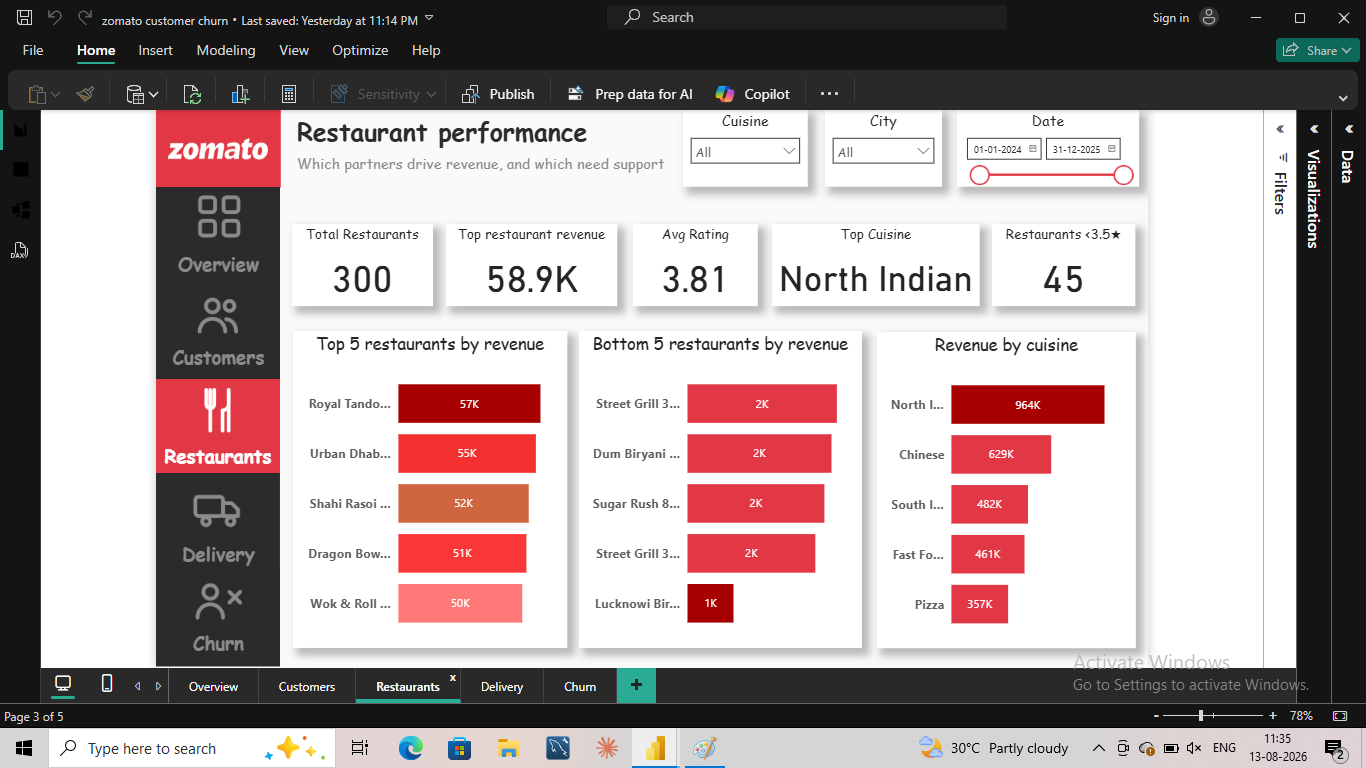

This screenshot's page, from the dashboard's own definition file:
{"tool":"powerbi","page":{"name":"Restaurants","canvas":[1280,720],"ordinal":2},"visuals":[{"type":"slicer","title":"Cuisine ","fields":{"Values":["restaurants.cuisine"]},"box":[680.3,0,161.3,99.1],"z":0},{"type":"slicer","title":"City","fields":{"Values":["cities.city_name"]},"box":[863.4,0,151.2,99.1],"z":1000},{"type":"slicer","title":"Date","fields":{"Values":["orders.order_datetime"]},"box":[1033.1,0,235.2,99.1],"z":2000},{"type":"textbox","box":[176.4,0,399.8,63.8],"z":3000},{"type":"shape","box":[0,99.8,160.5,125.8],"z":3000,"group":"g4"},{"type":"textbox","box":[176.4,50.4,503.9,63.8],"z":4000},{"type":"shape","box":[0,224.1,160.5,124.3],"z":4000,"group":"g2"},{"type":"card","title":"Total Restaurants","fields":{"Values":["Count(restaurants.restaurant_id)"]},"box":[175.2,146.8,181.5,105.7],"z":5000},{"type":"shape","box":[0,347,160.5,124.3],"z":5000,"group":"g5"},{"type":"barChart","title":"Top 5 restaurants by revenue","fields":{"Category":["restaurants.restaurant_name"],"Y":["restaurants.Restaurant Revenue"]},"box":[176.8,285.7,353.5,408.8],"z":6000},{"type":"shape","box":[0,467.8,159.9,126.1],"z":6000,"group":"g6"},{"type":"barChart","title":"Bottom 5 restaurants by revenue","fields":{"Category":["restaurants.restaurant_name"],"Y":["restaurants.Restaurant Revenue"]},"box":[546.1,285.7,364.6,408.8],"z":7000},{"type":"shape","box":[0,592.2,160.5,125.8],"z":7000,"group":"g3"},{"type":"shape","box":[0,0,161,100],"z":8000,"group":"g1"},{"type":"barChart","title":"Revenue by cuisine","fields":{"Category":["restaurants.cuisine"],"Y":["restaurants.Restaurant Revenue"]},"box":[930.5,286.4,333.9,408.5],"z":8000},{"type":"card","title":"Top restaurant revenue","fields":{"Values":["restaurants.Top Restaurant Revenue"]},"box":[374.1,146.8,221,105.7],"z":9000},{"type":"image","box":[0,8.7,160.5,82.4],"z":10000,"group":"g1"},{"type":"card","title":"Avg Rating","fields":{"Values":["Avg(restaurants.average_rating)"]},"box":[615.5,146.8,161,105.7],"z":10000},{"type":"card","title":"Top Cuisine","fields":{"Values":["Min(restaurants.cuisine)"]},"box":[795.5,146.8,268.3,105.7],"z":11000},{"type":"textbox","box":[0,176.3,161,47.5],"z":11000,"group":"g4"},{"type":"textbox","box":[0,296.6,161,52.5],"z":12000,"group":"g2"},{"type":"textbox","box":[0,424.2,159.5,52.7],"z":13000,"group":"g5"},{"type":"card","title":"Restaurants <3.5★","fields":{"Values":["restaurants.Restaurants Below 3.5"]},"box":[1078.9,147.3,185.1,105.5],"z":14000},{"type":"textbox","box":[0,550,160.9,43.9],"z":14000,"group":"g6"},{"type":"group","id":"g1","title":"Group 1","box":[0,0,161,100],"z":15000},{"type":"textbox","box":[0,665.8,161,52.5],"z":15000,"group":"g3"},{"type":"group","id":"g2","title":"Group 3","box":[0,224.1,161,125.1],"z":16000},{"type":"image","box":[18.6,225.4,125.4,76.3],"z":16000,"group":"g2"},{"type":"group","id":"g3","title":"Group 6","box":[0,592.2,161,126.1],"z":17000},{"type":"group","id":"g4","title":"Group 2","box":[0,99.5,161,126.1],"z":18000},{"type":"image","box":[18.6,474.2,125,76.5],"z":18000,"group":"g6"},{"type":"group","id":"g5","title":"Group 4","box":[0,347,160.5,129.9],"z":19000},{"type":"image","box":[18.6,594.6,125.4,76.3],"z":19000,"group":"g3"},{"type":"group","id":"g6","title":"Group 5","box":[0,467.8,160.9,126.1],"z":20000},{"type":"image","box":[11.7,99.5,140.4,76.1],"z":20001,"group":"g4"},{"type":"image","box":[17.6,351.1,124.3,73.1],"z":20002,"group":"g5"},{"type":"actionButton","box":[0,222.4,160.9,124.3],"z":21000},{"type":"actionButton","box":[0,471.8,161.2,123.4],"z":22000},{"type":"actionButton","box":[0,593.2,161.2,125.4],"z":23000},{"type":"actionButton","box":[0,100.9,160.9,124.3],"z":24000}]}

Visuals, with their boxes on the page's 1280x720 design canvas (x1, y1, x2, y2). These are canvas units, not pixel positions in the 1366x768 screenshot, which may show the page scaled, cropped or inside an application window:
"Cuisine " slicer: detection(680, 0, 842, 99)
"City" slicer: detection(863, 0, 1015, 99)
"Date" slicer: detection(1033, 0, 1268, 99)
textbox: detection(176, 0, 576, 64)
shape: detection(0, 100, 160, 226)
textbox: detection(176, 50, 680, 114)
shape: detection(0, 224, 160, 348)
"Total Restaurants" card: detection(175, 147, 357, 252)
shape: detection(0, 347, 160, 471)
"Top 5 restaurants by revenue" barChart: detection(177, 286, 530, 694)
shape: detection(0, 468, 160, 594)
"Bottom 5 restaurants by revenue" barChart: detection(546, 286, 911, 694)
shape: detection(0, 592, 160, 718)
shape: detection(0, 0, 161, 100)
"Revenue by cuisine" barChart: detection(930, 286, 1264, 695)
"Top restaurant revenue" card: detection(374, 147, 595, 252)
image: detection(0, 9, 160, 91)
"Avg Rating" card: detection(616, 147, 776, 252)
"Top Cuisine" card: detection(796, 147, 1064, 252)
textbox: detection(0, 176, 161, 224)
textbox: detection(0, 297, 161, 349)
textbox: detection(0, 424, 160, 477)
"Restaurants <3.5★" card: detection(1079, 147, 1264, 253)
textbox: detection(0, 550, 161, 594)
"Group 1" group: detection(0, 0, 161, 100)
textbox: detection(0, 666, 161, 718)
"Group 3" group: detection(0, 224, 161, 349)
image: detection(19, 225, 144, 302)
"Group 6" group: detection(0, 592, 161, 718)
"Group 2" group: detection(0, 100, 161, 226)
image: detection(19, 474, 144, 551)
"Group 4" group: detection(0, 347, 160, 477)
image: detection(19, 595, 144, 671)
"Group 5" group: detection(0, 468, 161, 594)
image: detection(12, 100, 152, 176)
image: detection(18, 351, 142, 424)
actionButton: detection(0, 222, 161, 347)
actionButton: detection(0, 472, 161, 595)
actionButton: detection(0, 593, 161, 719)
actionButton: detection(0, 101, 161, 225)
